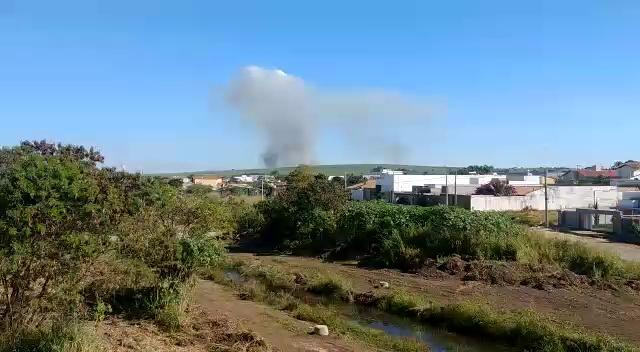smoke: (259, 88, 308, 150)
